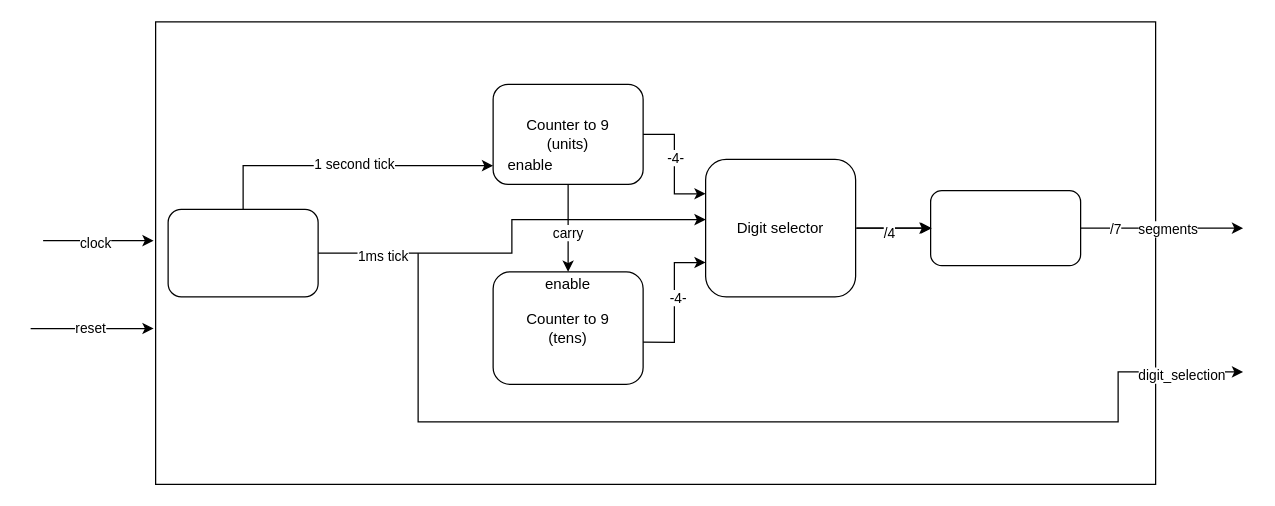
The diagram is 1275 pixels wide and 506 high, and some of its shapes have lost their labels. Each missing label, with the centre of its shape:
"Prescaler" belongs at point 242,252.
"Seven-segment decoder" belongs at point 1005,227.
